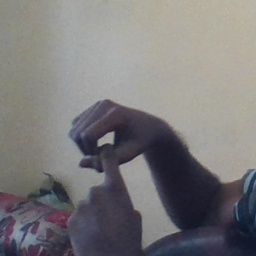Q: (64, 99, 158, 251)
